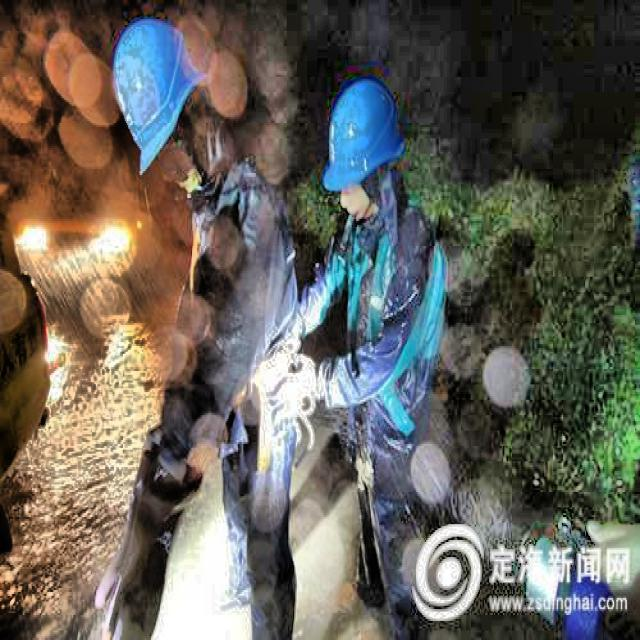helmet: (108, 16, 206, 190), (322, 71, 406, 240)
